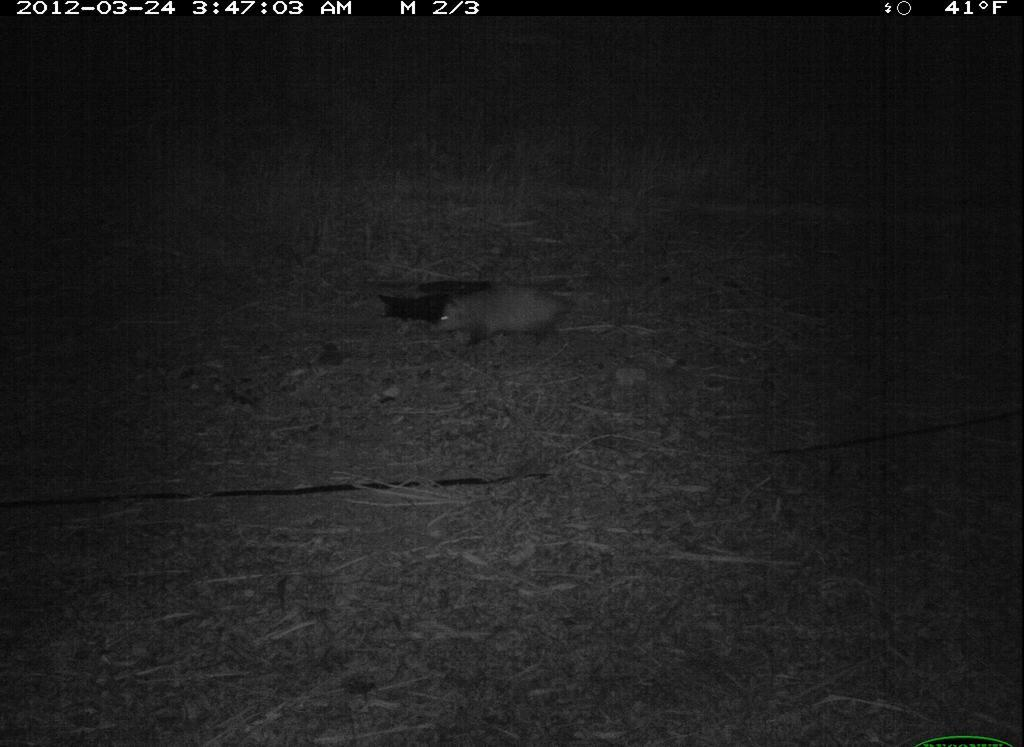opossum: (425, 283, 594, 360)
